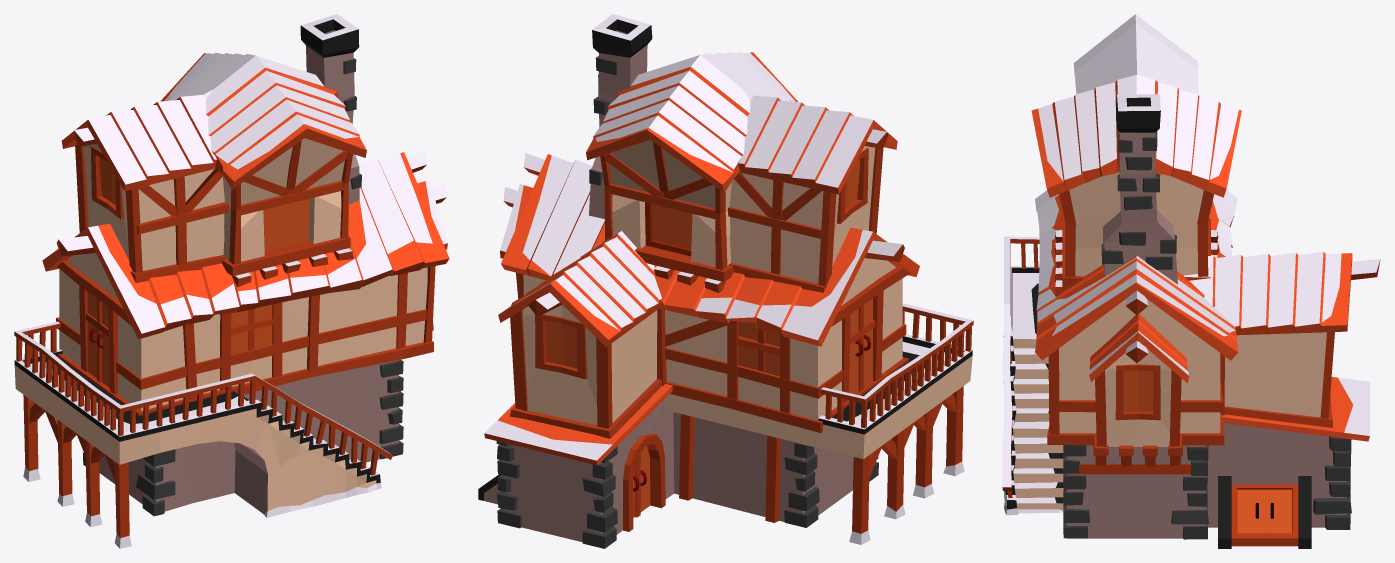
The model's file is town_hall.glb.
3 views of the same model, side by side, from view 1: azimuth 30°, elevation 25°; view 2: azimuth 150°, elevation 25°; view 3: azimuth 270°, elevation 25° (orthographic). The views are drawn at different scales.
Parts seen in each view (by area): view 1: House1; view 2: House1; view 3: House1.
Part boxes in pixels (x1,y1,x2,y2): House1: (14,14,449,548); House1: (478,14,973,548); House1: (1002,14,1380,548).
Size of what is drawn, in the model's own units: 7.31 by 7.37 by 6.01.
Materials: 1 (1 with a texture image).
